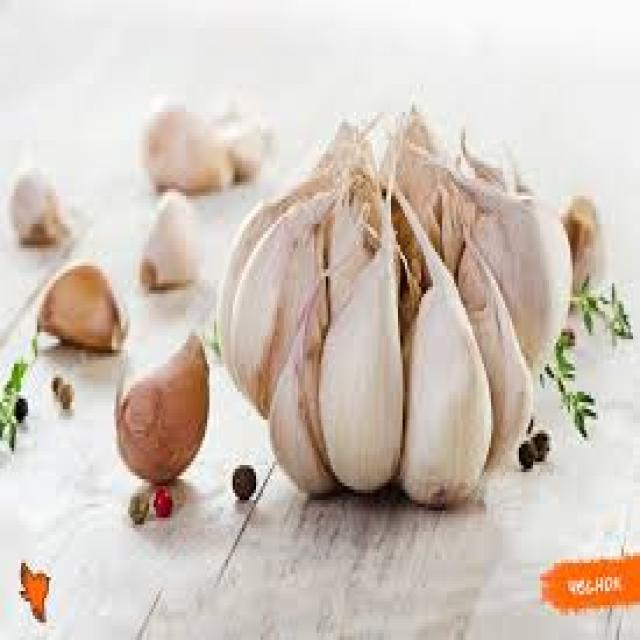Garlic: (216, 100, 581, 506), (128, 79, 278, 226), (98, 329, 225, 488), (26, 249, 137, 373), (123, 181, 208, 297), (10, 166, 86, 275), (560, 191, 614, 307)
